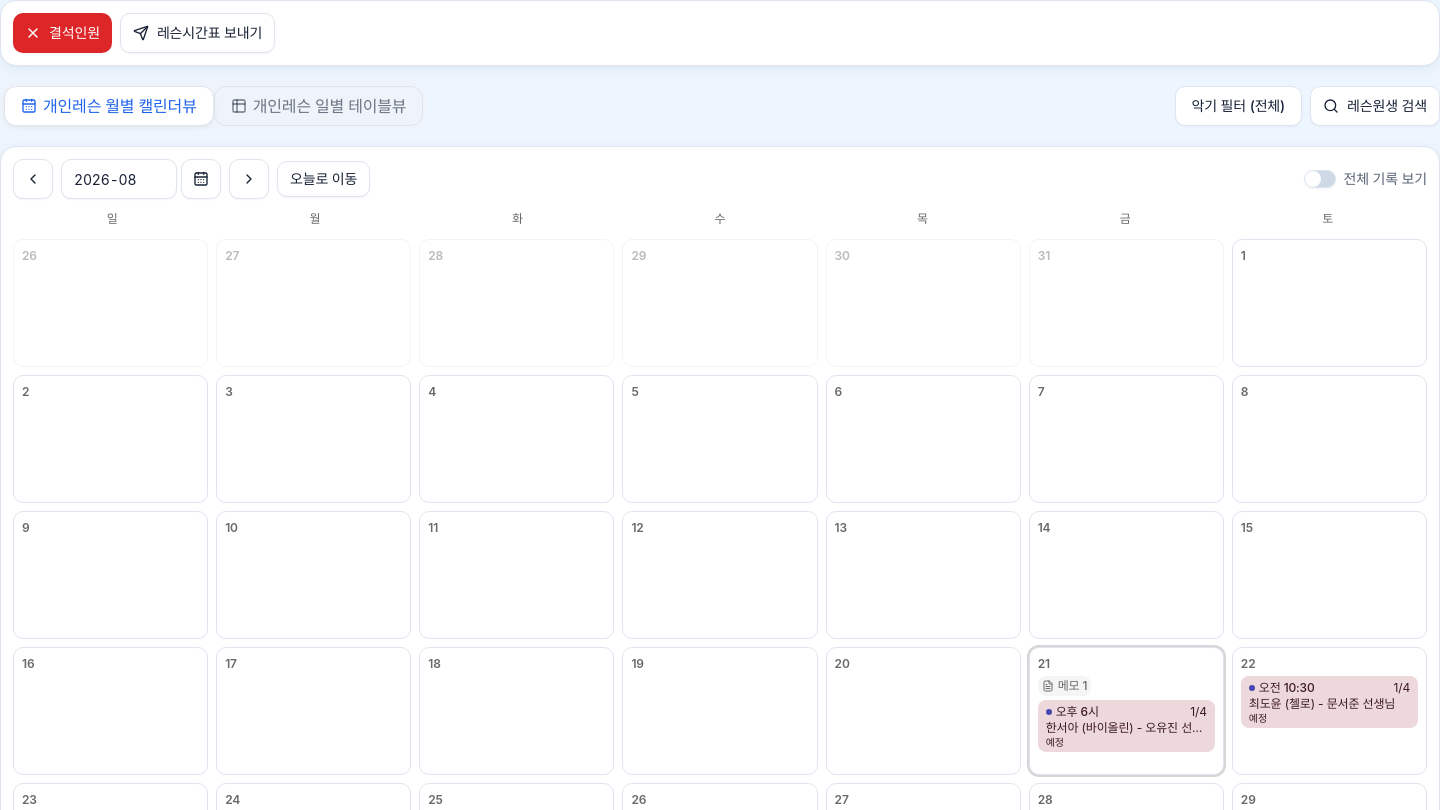
Scenario: 날짜에서 개인레슨 등록 (명세 3.2) › 선생님은 담당 악기의 잔여 회수와 만료일만 확인하고 결제 정보는 보지 않는다
Click the cell "21 메모 1 오후 6시 1/4 한서아 (바이올린) - 오유진 선생님 예정".
click(1126, 711)  # box [1029,647,1224,775]
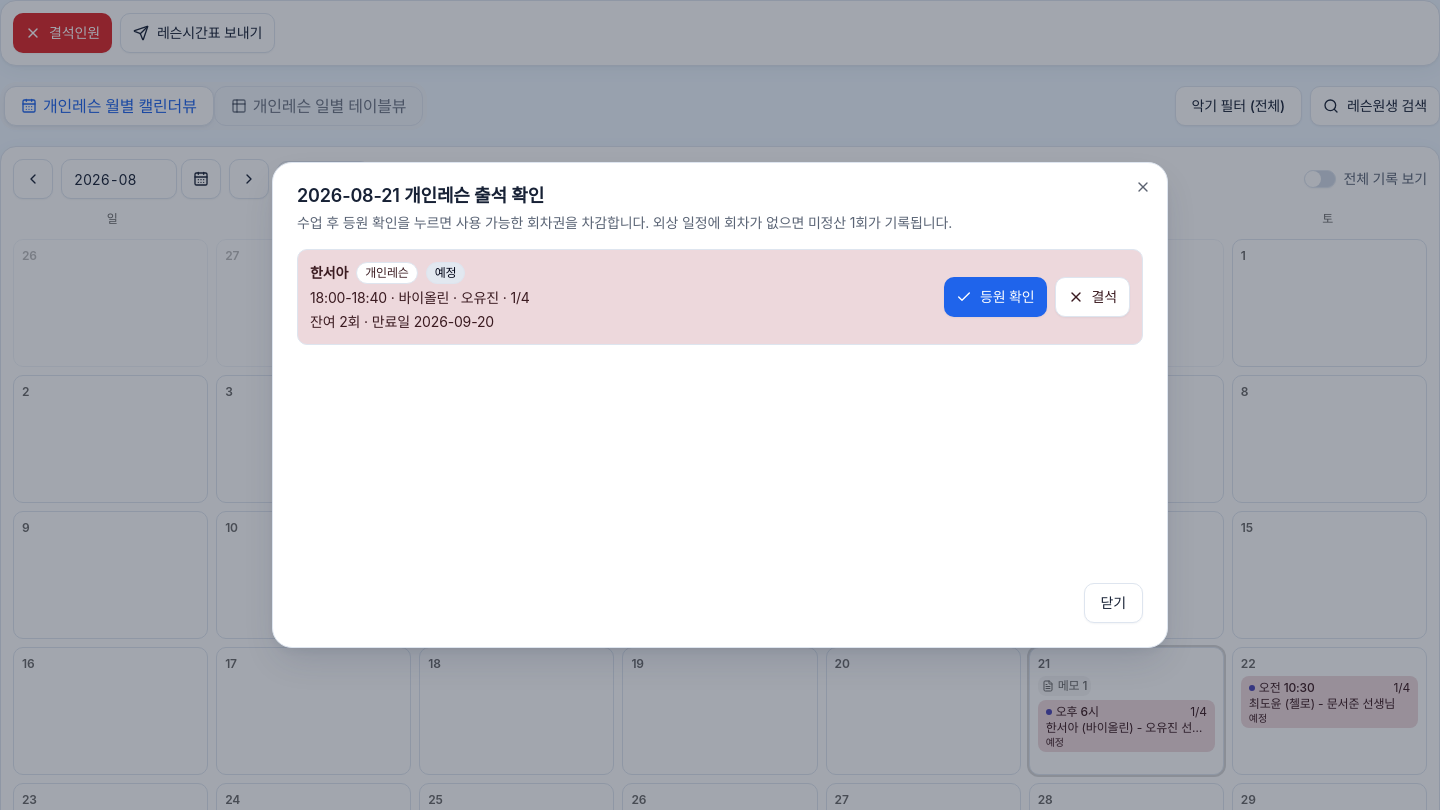
Check: the text "잔여 2회 · 만료일 2026-09-20" is shown, box [310,313,494,330]
